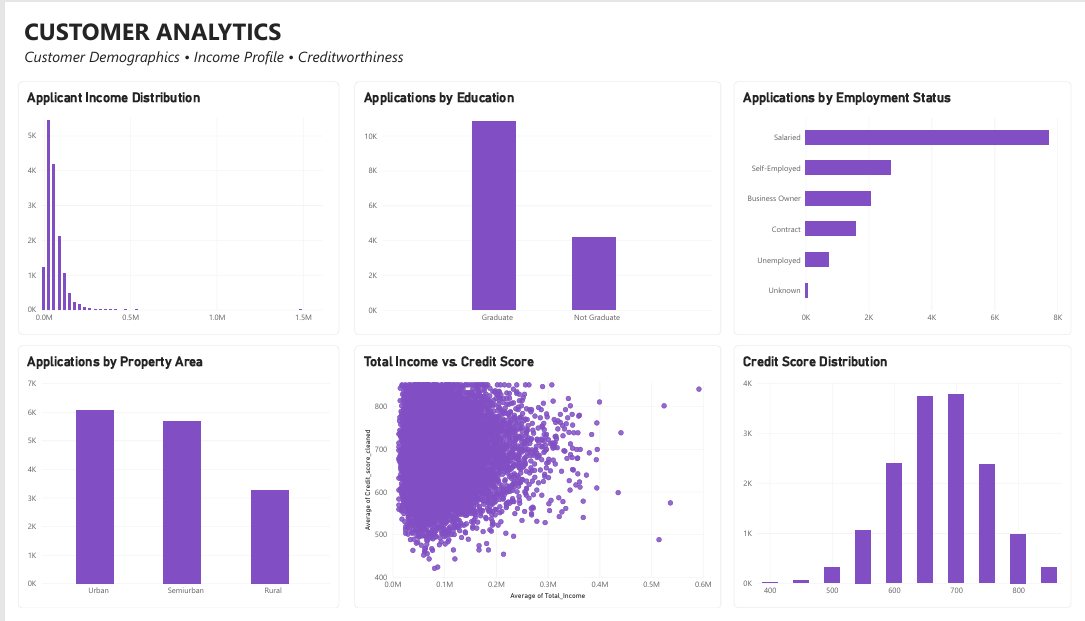

This screenshot's page, from the dashboard's own definition file:
{"tool":"powerbi","page":{"name":"customer Analytics","canvas":[1920,1080],"ordinal":1},"visuals":[{"type":"textbox","box":[10.6,0,1908.5,106.4],"z":0},{"type":"clusteredColumnChart","fields":{"Category":["LoanData_Cleaned.Education"],"Y":["CountNonNull(LoanData_Cleaned.Application_ID)"]},"box":[612.8,121.3,668.1,461.7],"z":1000},{"type":"barChart","fields":{"Category":["LoanData_Cleaned.Employment_Status"],"Y":["CountNonNull(LoanData_Cleaned.Application_ID)"]},"box":[1304.3,121.3,614.9,461.7],"z":2000},{"type":"clusteredColumnChart","fields":{"Category":["LoanData_Cleaned.Property_area_cleaned"],"Y":["CountNonNull(LoanData_Cleaned.Application_ID)"]},"box":[0,602.1,585.1,478.7],"z":3000},{"type":"scatterChart","fields":{"Category":["LoanData_Cleaned.Application_ID"],"X":["Sum(LoanData_Cleaned.Total_Income)"],"Y":["Sum(LoanData_Cleaned.Credit_score_cleaned)"]},"box":[612.8,602.1,668.1,478.7],"z":4000},{"type":"clusteredColumnChart","fields":{"Category":["LoanData_Cleaned.Applicant_Income (bins)"],"Y":["CountNonNull(LoanData_Cleaned.Application_ID)"]},"box":[0,121.3,585,461],"z":5000},{"type":"clusteredColumnChart","fields":{"Category":["LoanData_Cleaned.1Credit_score_cleaned (bins)"],"Y":["CountNonNull(LoanData_Cleaned.Application_ID)"]},"box":[1304,602,615,478],"z":6000}]}

Visuals, with their boxes in screenshot pixels (x1, y1, x2, y2), scaled from the page's 1920x1080 canvas onto the 1085x621 screenshot:
textbox: (6,0,1084,61)
clusteredColumnChart - LoanData_Cleaned.Education x CountNonNull(LoanData_Cleaned.Application_ID): (346,70,724,335)
barChart - LoanData_Cleaned.Employment_Status x CountNonNull(LoanData_Cleaned.Application_ID): (737,70,1084,335)
clusteredColumnChart - LoanData_Cleaned.Property_area_cleaned x CountNonNull(LoanData_Cleaned.Application_ID): (0,346,331,620)
scatterChart - LoanData_Cleaned.Application_ID x Sum(LoanData_Cleaned.Total_Income): (346,346,724,620)
clusteredColumnChart - LoanData_Cleaned.Applicant_Income (bins) x CountNonNull(LoanData_Cleaned.Application_ID): (0,70,331,335)
clusteredColumnChart - LoanData_Cleaned.1Credit_score_cleaned (bins) x CountNonNull(LoanData_Cleaned.Application_ID): (737,346,1084,620)
